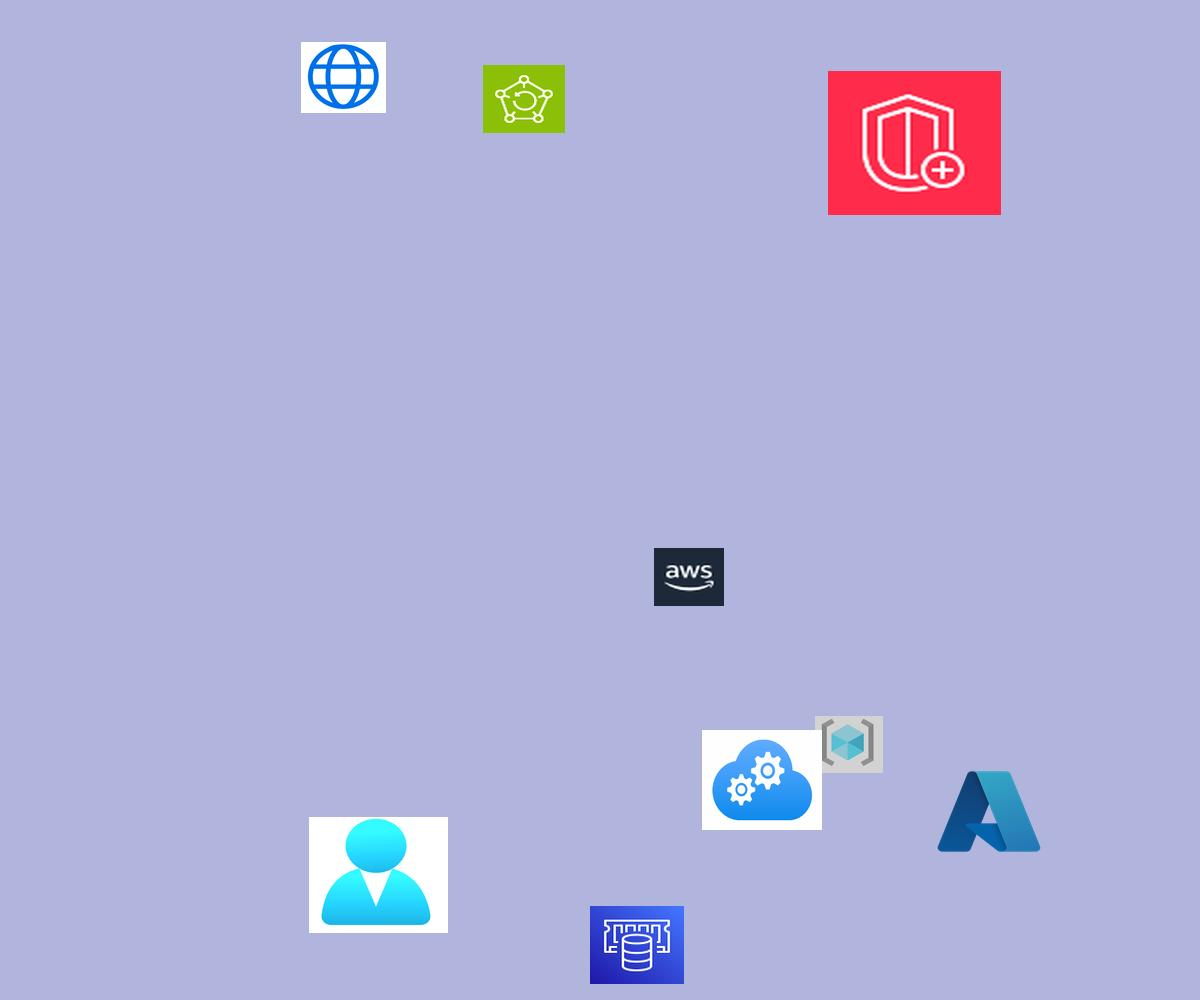AWS-Backup: (483, 65, 565, 133)
AWS-Cloud-logo: (654, 548, 724, 606)
AWS-ElastiCache: (590, 906, 684, 984)
AWS-Shield: (828, 71, 1001, 215)
Azure_cloud_services: (702, 730, 822, 830)
Azure_http: (301, 42, 386, 113)
Azure_resource_group: (815, 716, 883, 773)
Azure_services: (933, 765, 1045, 858)
Azure_users: (309, 817, 448, 933)
